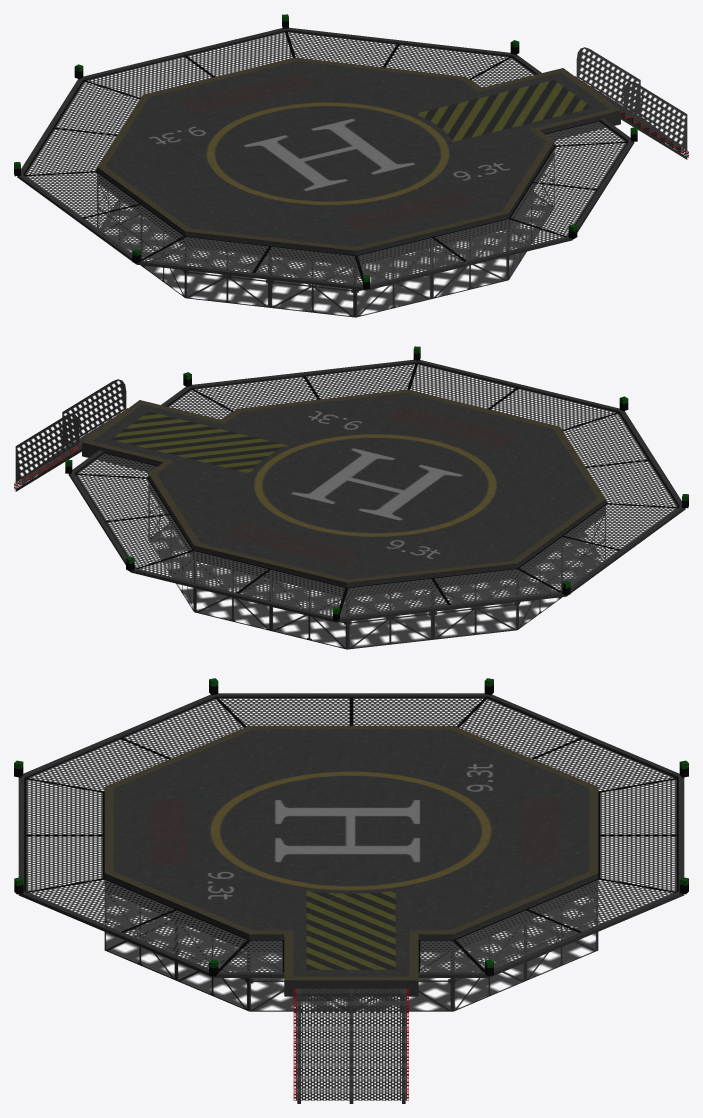
The picture shows the model from 3 angles, top to bottom: view 1: azimuth 30°, elevation 25°; view 2: azimuth 150°, elevation 25°; view 3: azimuth 270°, elevation 25°; orthographic projection. The views are drawn at different scales.
Visible parts, largest first — view 1: Cercle; view 2: Cercle; view 3: Cercle.
Part boxes in pixels (left/top/right/bottom): Cercle: left=14, top=14, right=688, bottom=317; Cercle: left=14, top=346, right=688, bottom=649; Cercle: left=14, top=678, right=688, bottom=1103.
Size of the model in its own units: 222 by 33.13 by 190.
1 material, 1 textured.
